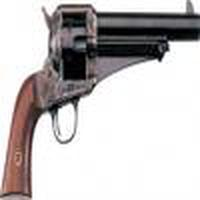gun: (4, 6, 200, 188)
